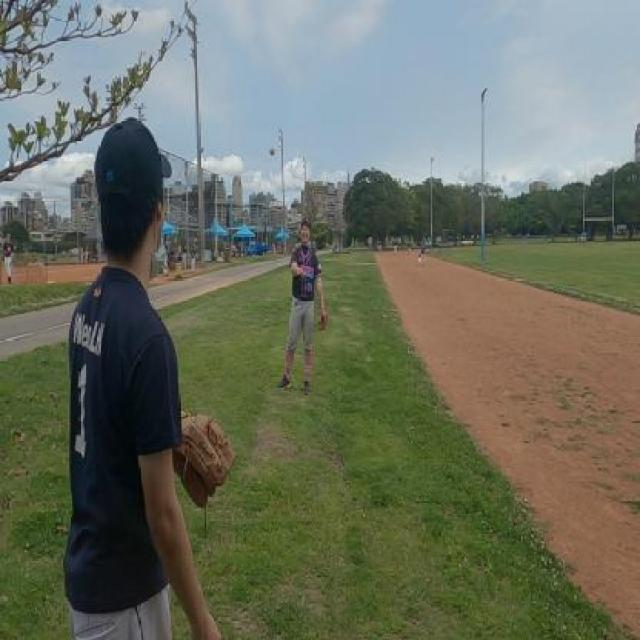baseball: (270, 146, 276, 157)
